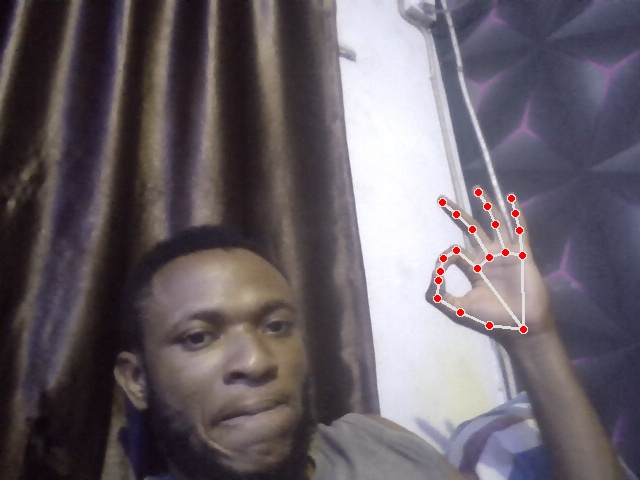okay: (426, 185, 554, 336)
